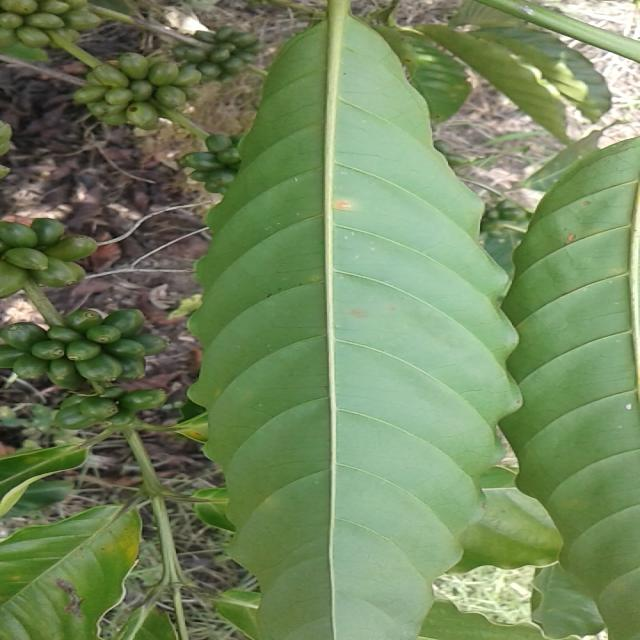Enfermedad-Roya: (188, 18, 521, 640)
